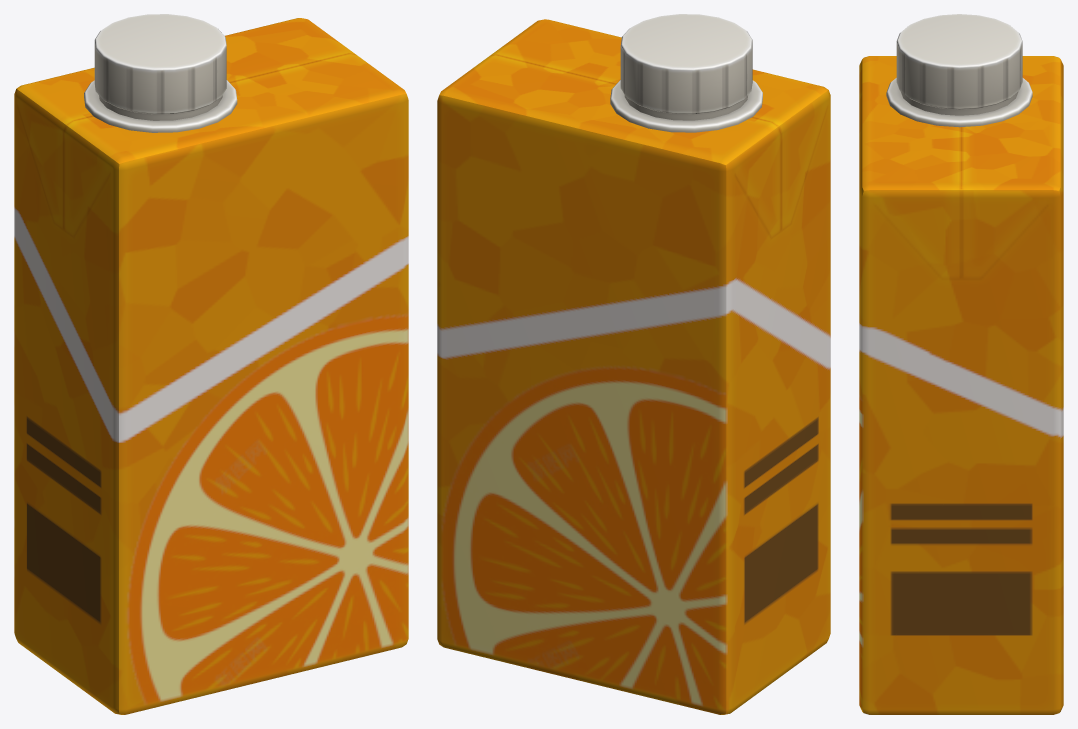
File: fruitjuice_orange.fbx
The picture shows the model from 3 angles, left to right: view 1: azimuth 30°, elevation 25°; view 2: azimuth 150°, elevation 25°; view 3: azimuth 270°, elevation 25°; orthographic projection. The views are drawn at different scales.
Parts seen in each view (by area): view 1: _fruitjuice_orange; view 2: _fruitjuice_orange; view 3: _fruitjuice_orange.
Boxes of the visible parts, box(x1,y1,x2,y2) form: _fruitjuice_orange: box(14, 14, 408, 714); _fruitjuice_orange: box(437, 14, 830, 714); _fruitjuice_orange: box(859, 14, 1063, 714).
Size of the model in its own units: 0.5145 by 1.03 by 0.3248.
